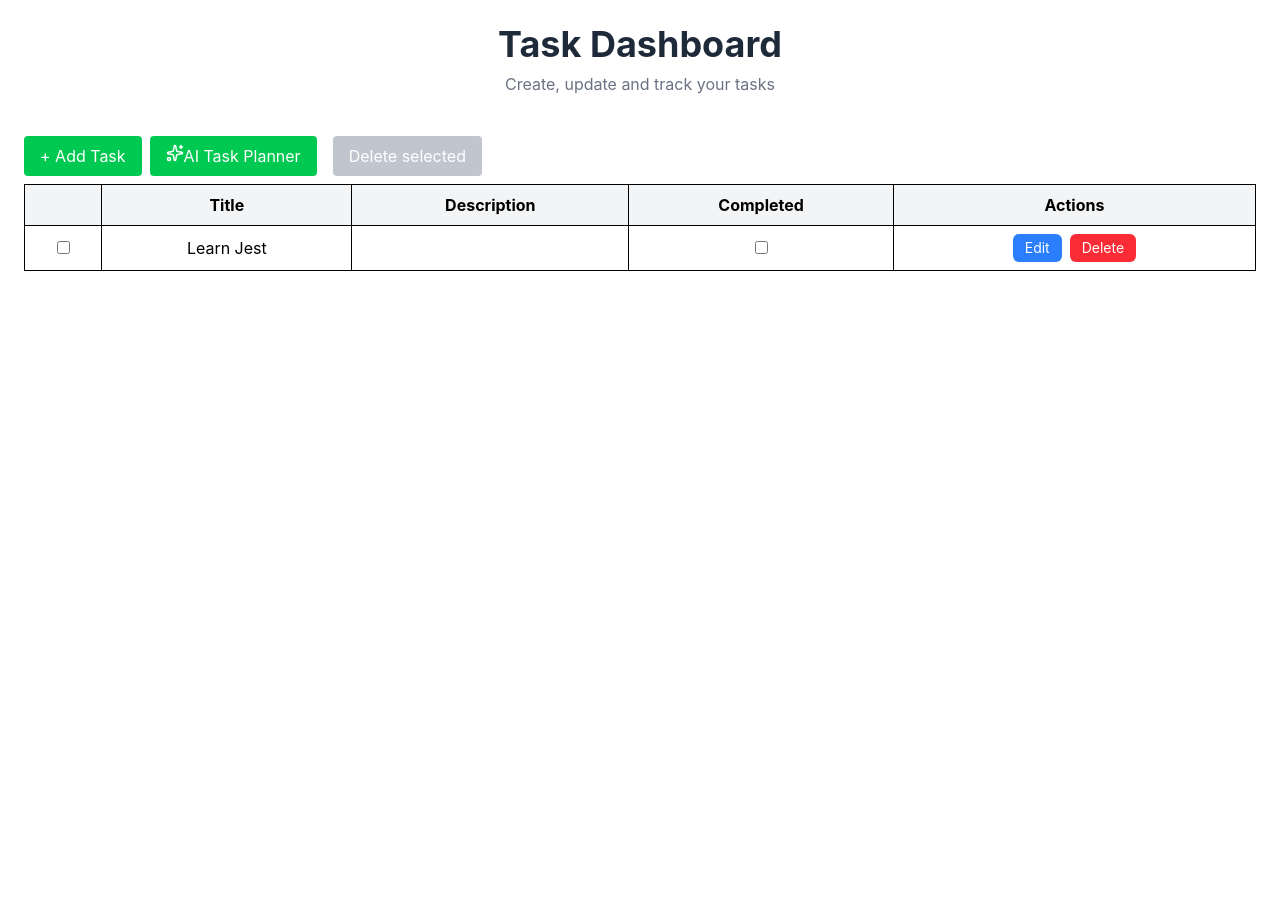
Scenario: opens add AI modal when button clicked
What coordinates should you click on to do the following:
click the button "AI Task Planner"
I would click on:
 (233, 156)
Its box is x1=150 y1=136 x2=317 y2=176.
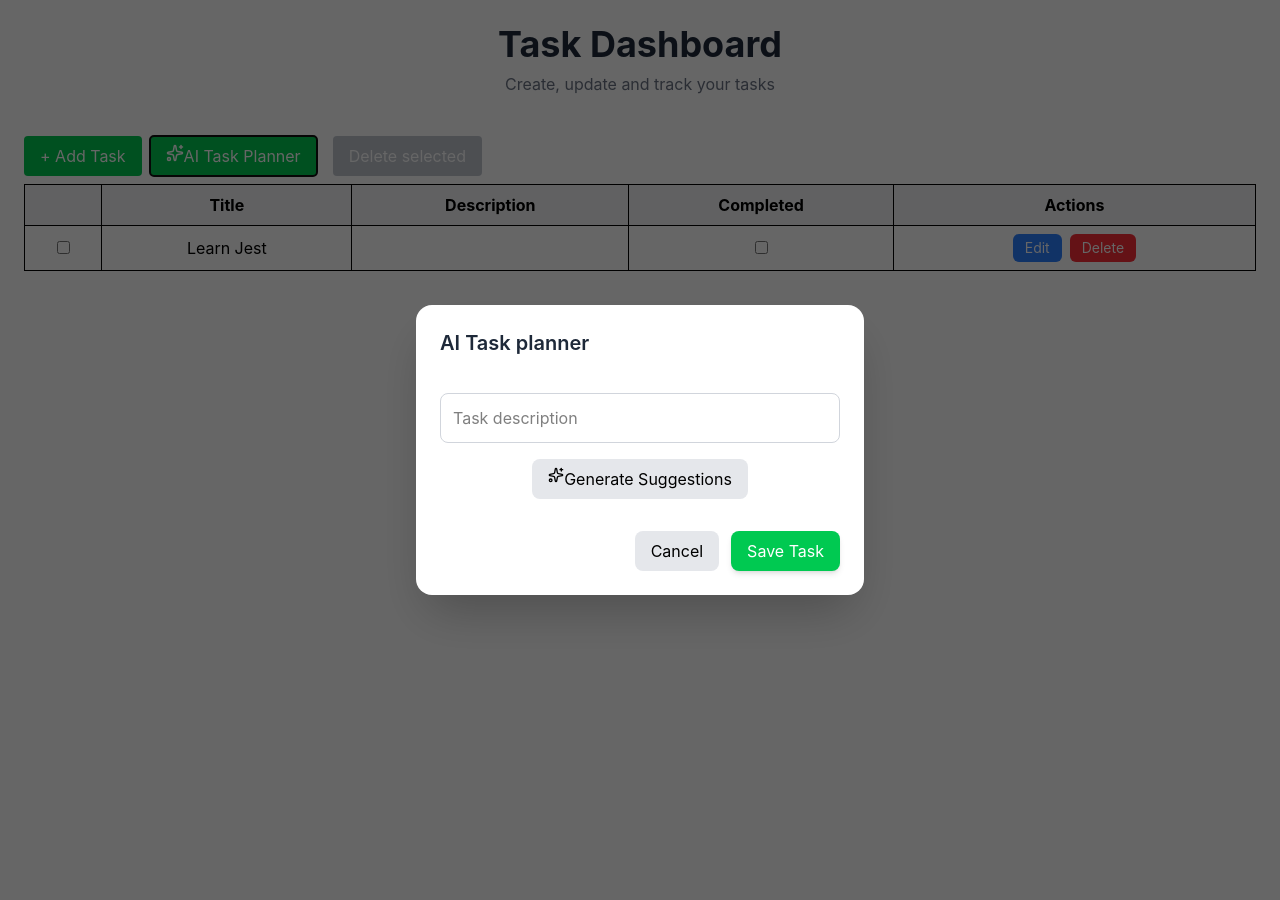
expect the heading "AI Task planner" is shown: met, box x1=440 y1=331 x2=589 y2=355
